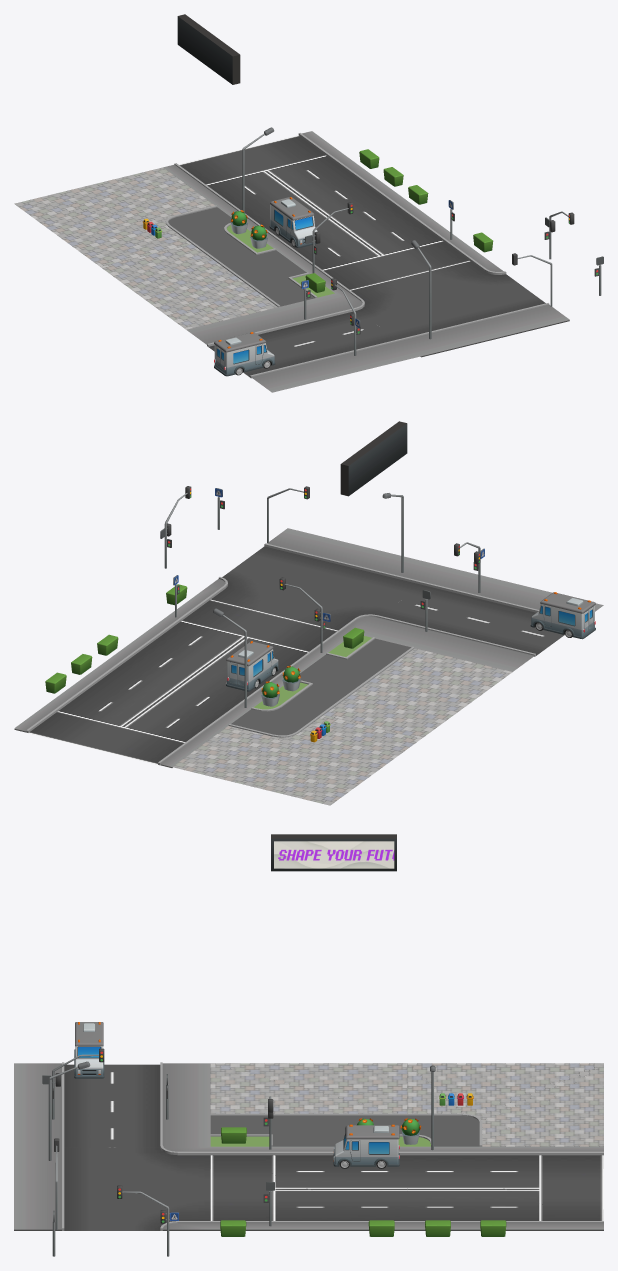
Rendered from north-center.gltf.
3 views of the same model, one above another, from view 1: azimuth 30°, elevation 25°; view 2: azimuth 150°, elevation 25°; view 3: azimuth 270°, elevation 25° (orthographic). The views are drawn at different scales.
Visible parts, largest first — view 1: road_019.005, Set_B_Tiles_06.002, Set_B_Tiles_04.031, road_020.084, road_020.002, road_009.014, Billboard_4x1_04.002, Van.005, Van.001; view 2: road_020.084, road_019.005, Set_B_Tiles_06.002, Set_B_Tiles_04.031, road_009.014, road_020.002, Billboard_4x1_04.002, Van.005, Van.001; view 3: road_020.084, road_019.005, Set_B_Tiles_06.002, road_009.014, road_020.002, Set_B_Tiles_04.031, Billboard_4x1_04.002, Van.001, Van.005, Billboard_4x1_04_Line.002.
Part boxes in pixels (x1=…): road_019.005: x1=335, y1=257, x2=569, y2=357; Set_B_Tiles_06.002: x1=14, y1=167, x2=248, y2=266; Set_B_Tiles_04.031: x1=100, y1=230, x2=334, y2=329; road_020.084: x1=163, y1=131, x2=397, y2=230; road_020.002: x1=249, y1=194, x2=483, y2=293; road_009.014: x1=186, y1=293, x2=420, y2=392; Billboard_4x1_04.002: x1=177, y1=14, x2=240, y2=84; Van.005: x1=214, y1=332, x2=275, y2=376; Van.001: x1=269, y1=197, x2=317, y2=247; road_020.084: x1=14, y1=662, x2=262, y2=767; road_019.005: x1=197, y1=528, x2=445, y2=631; Set_B_Tiles_06.002: x1=172, y1=701, x2=420, y2=805; Set_B_Tiles_04.031: x1=277, y1=636, x2=512, y2=738; road_009.014: x1=361, y1=567, x2=603, y2=671; road_020.002: x1=105, y1=595, x2=348, y2=699; Billboard_4x1_04.002: x1=340, y1=421, x2=407, y2=496; Van.005: x1=530, y1=592, x2=595, y2=639; Van.001: x1=226, y1=641, x2=278, y2=691; road_020.084: x1=407, y1=1146, x2=603, y2=1230; road_019.005: x1=14, y1=1145, x2=210, y2=1230; Set_B_Tiles_06.002: x1=407, y1=1063, x2=603, y2=1146; road_009.014: x1=14, y1=1062, x2=210, y2=1147; road_020.002: x1=210, y1=1146, x2=407, y2=1230; Set_B_Tiles_04.031: x1=210, y1=1063, x2=407, y2=1146; Billboard_4x1_04.002: x1=271, y1=834, x2=396, y2=871; Van.001: x1=333, y1=1124, x2=399, y2=1166; Van.005: x1=74, y1=1022, x2=104, y2=1078; Billboard_4x1_04_Line.002: x1=278, y1=849, x2=394, y2=860.
Size of the model in its own units: 37.12 by 22.8 by 45.
Materials: 13 (11 with a texture image).
